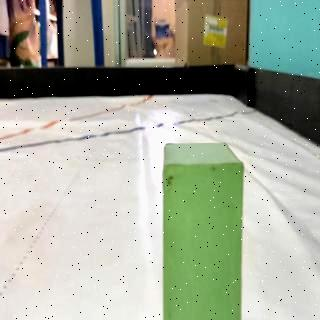greenbox: (160, 139, 244, 320)
